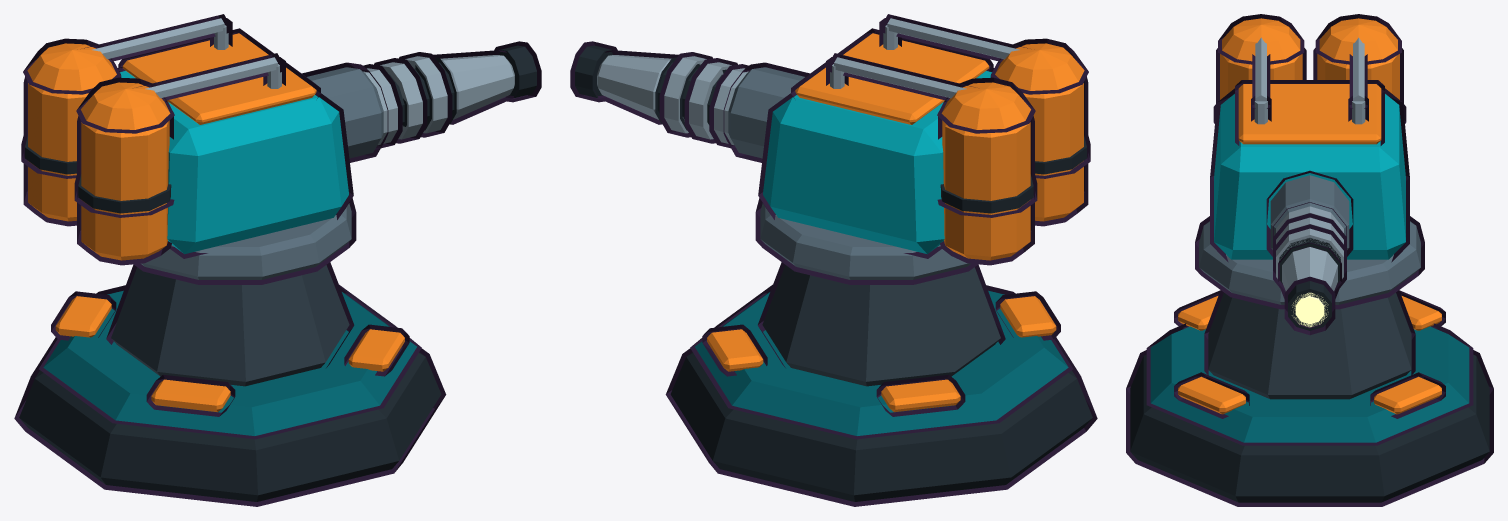
File: Flamethrower.glb
3 renders of one model, left to right at view 1: azimuth 30°, elevation 25°; view 2: azimuth 150°, elevation 25°; view 3: azimuth 270°, elevation 25°, orthographic. The views are drawn at different scales.
Parts seen in each view (by area): view 1: Flamethrower_GAME_Base, Flamethrower_GAME_Head; view 2: Flamethrower_GAME_Base, Flamethrower_GAME_Head; view 3: Flamethrower_GAME_Base, Flamethrower_GAME_Head.
Boxes of the visible parts, box(x1,y1,x2,y2) form: Flamethrower_GAME_Base: box(14, 198, 446, 506); Flamethrower_GAME_Head: box(21, 14, 541, 265); Flamethrower_GAME_Base: box(665, 198, 1097, 506); Flamethrower_GAME_Head: box(570, 14, 1090, 265); Flamethrower_GAME_Base: box(1126, 216, 1493, 506); Flamethrower_GAME_Head: box(1210, 14, 1409, 335).
Bounding box in the file's own units: 1.33 × 1.04 × 0.9816.
